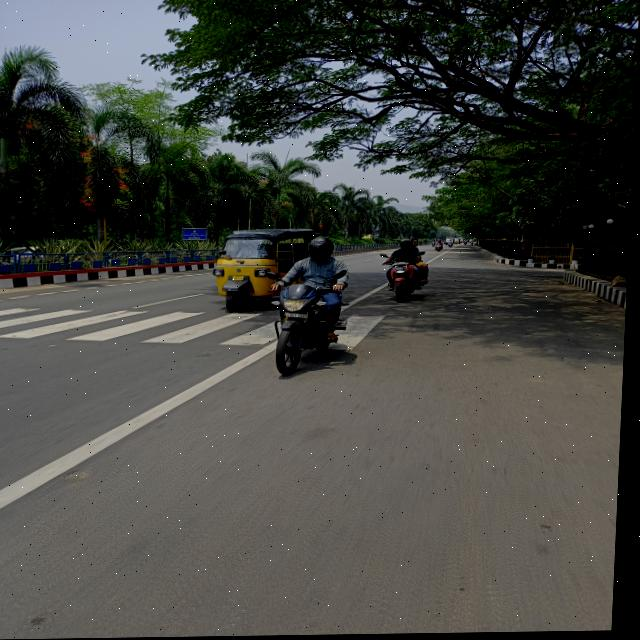bike: (264, 279, 367, 373), (382, 262, 441, 305)
